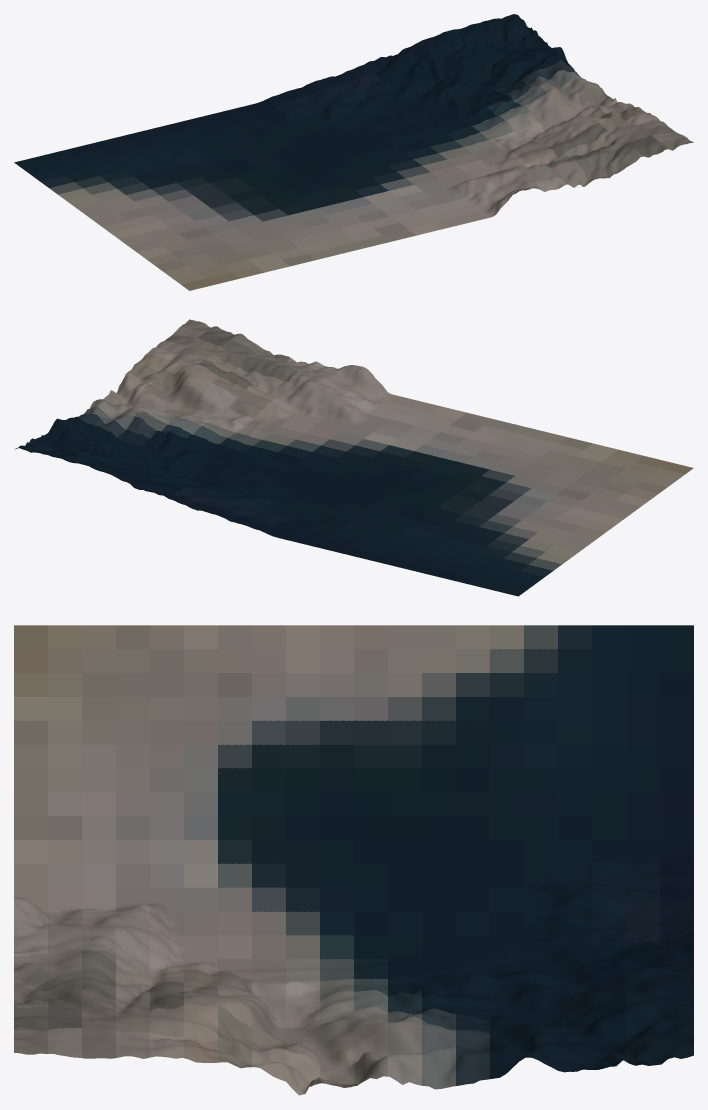
Rendered from cartagena.gltf.
3 renders of one model, top to bottom at view 1: azimuth 30°, elevation 25°; view 2: azimuth 150°, elevation 25°; view 3: azimuth 270°, elevation 25°, orthographic. The views are drawn at different scales.
Visible parts, largest first — view 1: TerrainNode.001; view 2: TerrainNode.001; view 3: TerrainNode.001.
Part boxes in pixels (left/top/right/bottom): TerrainNode.001: left=14, top=14, right=693, bottom=290; TerrainNode.001: left=14, top=319, right=693, bottom=596; TerrainNode.001: left=14, top=625, right=693, bottom=1095.
Size of the model in its own units: 21.58 by 1.1 by 13.
1 material, 1 textured.
